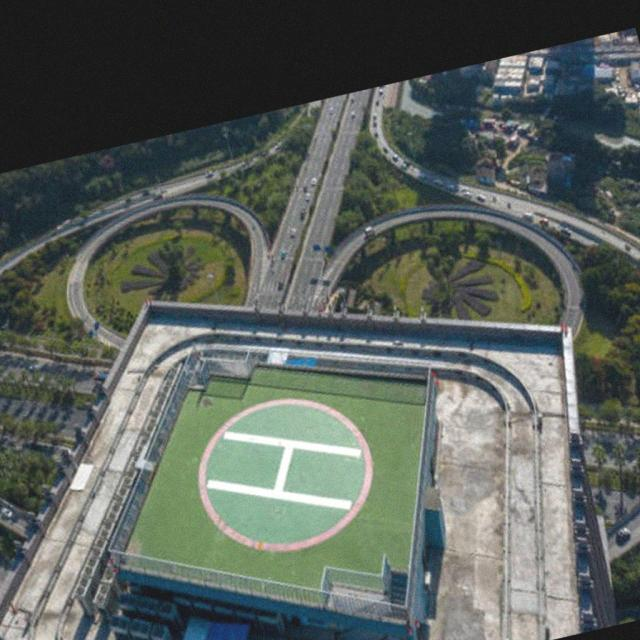helipad: (190, 394, 374, 557)
